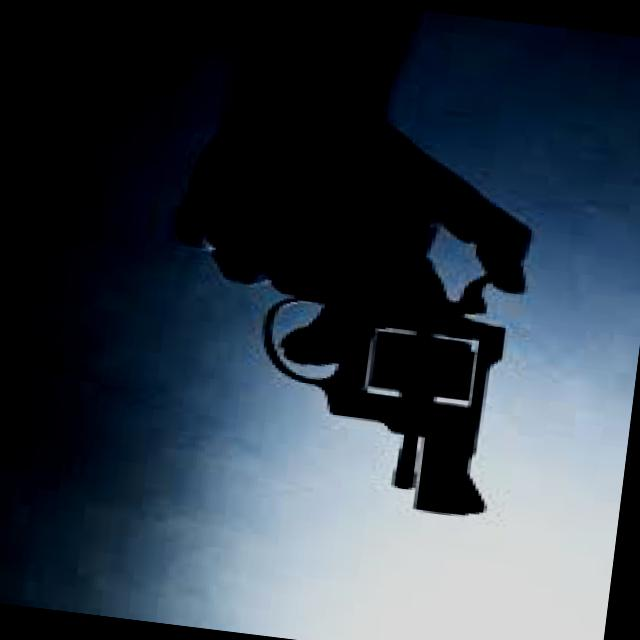handgun: (144, 132, 544, 522)
